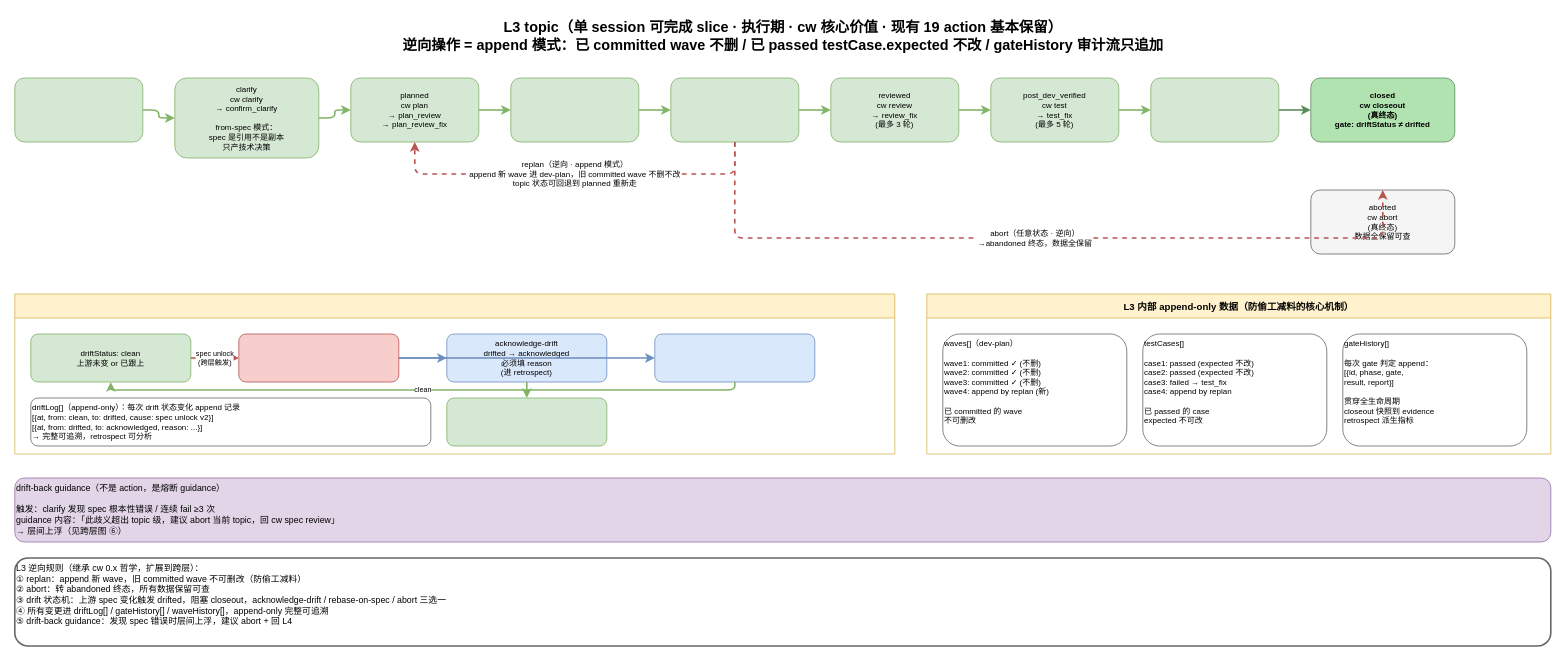
The diagram is 1565 pixels wide and 660 high, and some of its shapes have lost their labels. Here are the shapes that lost their labels. From the top down, the box of each, then its label:
(14, 77, 143, 142): created cw topic create [--from-spec]
(510, 77, 639, 142): pre_dev_verified cw tdd_plan 红灯 gate → test.json
(670, 77, 799, 142): developed cw dev per wave commit (append-only)
(1150, 77, 1279, 142): retrospected cw retrospect
(238, 333, 399, 382): driftStatus: drifted 上游 spec 变了 ↑ gate 阻塞 closeout
(14, 293, 895, 454): 跨层逆向的下游处理 action（drift 状态机 · 见跨层图）
(654, 333, 815, 382): rebase-on-spec drifted → clean 新 AC 作为新 wave append 旧 committed wave 不删
(446, 397, 607, 446): acknowledged 可 closeout retrospect 必须记录 drift 决策
